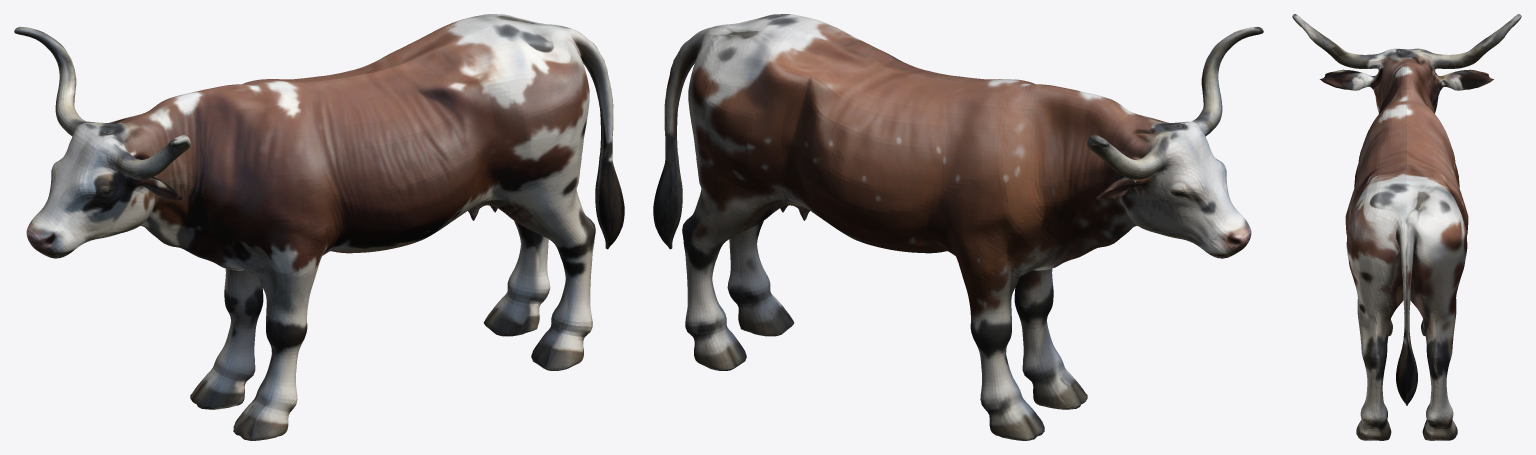
File: bull.glb
3 renders of one model, left to right at view 1: azimuth 30°, elevation 25°; view 2: azimuth 150°, elevation 25°; view 3: azimuth 270°, elevation 25°, orthographic. The views are drawn at different scales.
Size of the model in its own units: 2 by 1.18 by 0.9202.
Materials: 1 (1 with a texture image).
